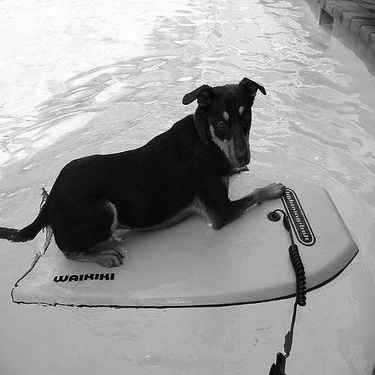dog: (1, 69, 302, 272)
